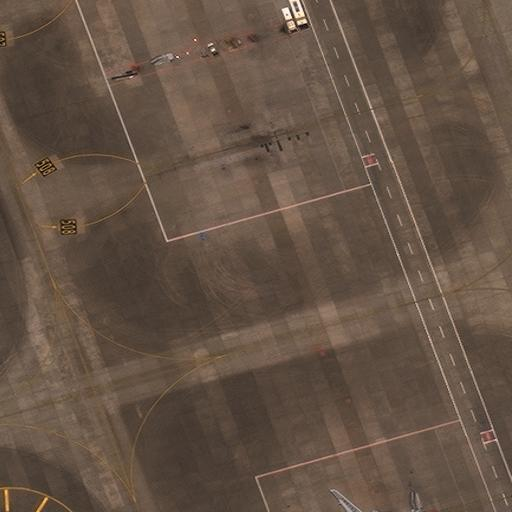Medium Civil Transport: (316, 487, 423, 511)
